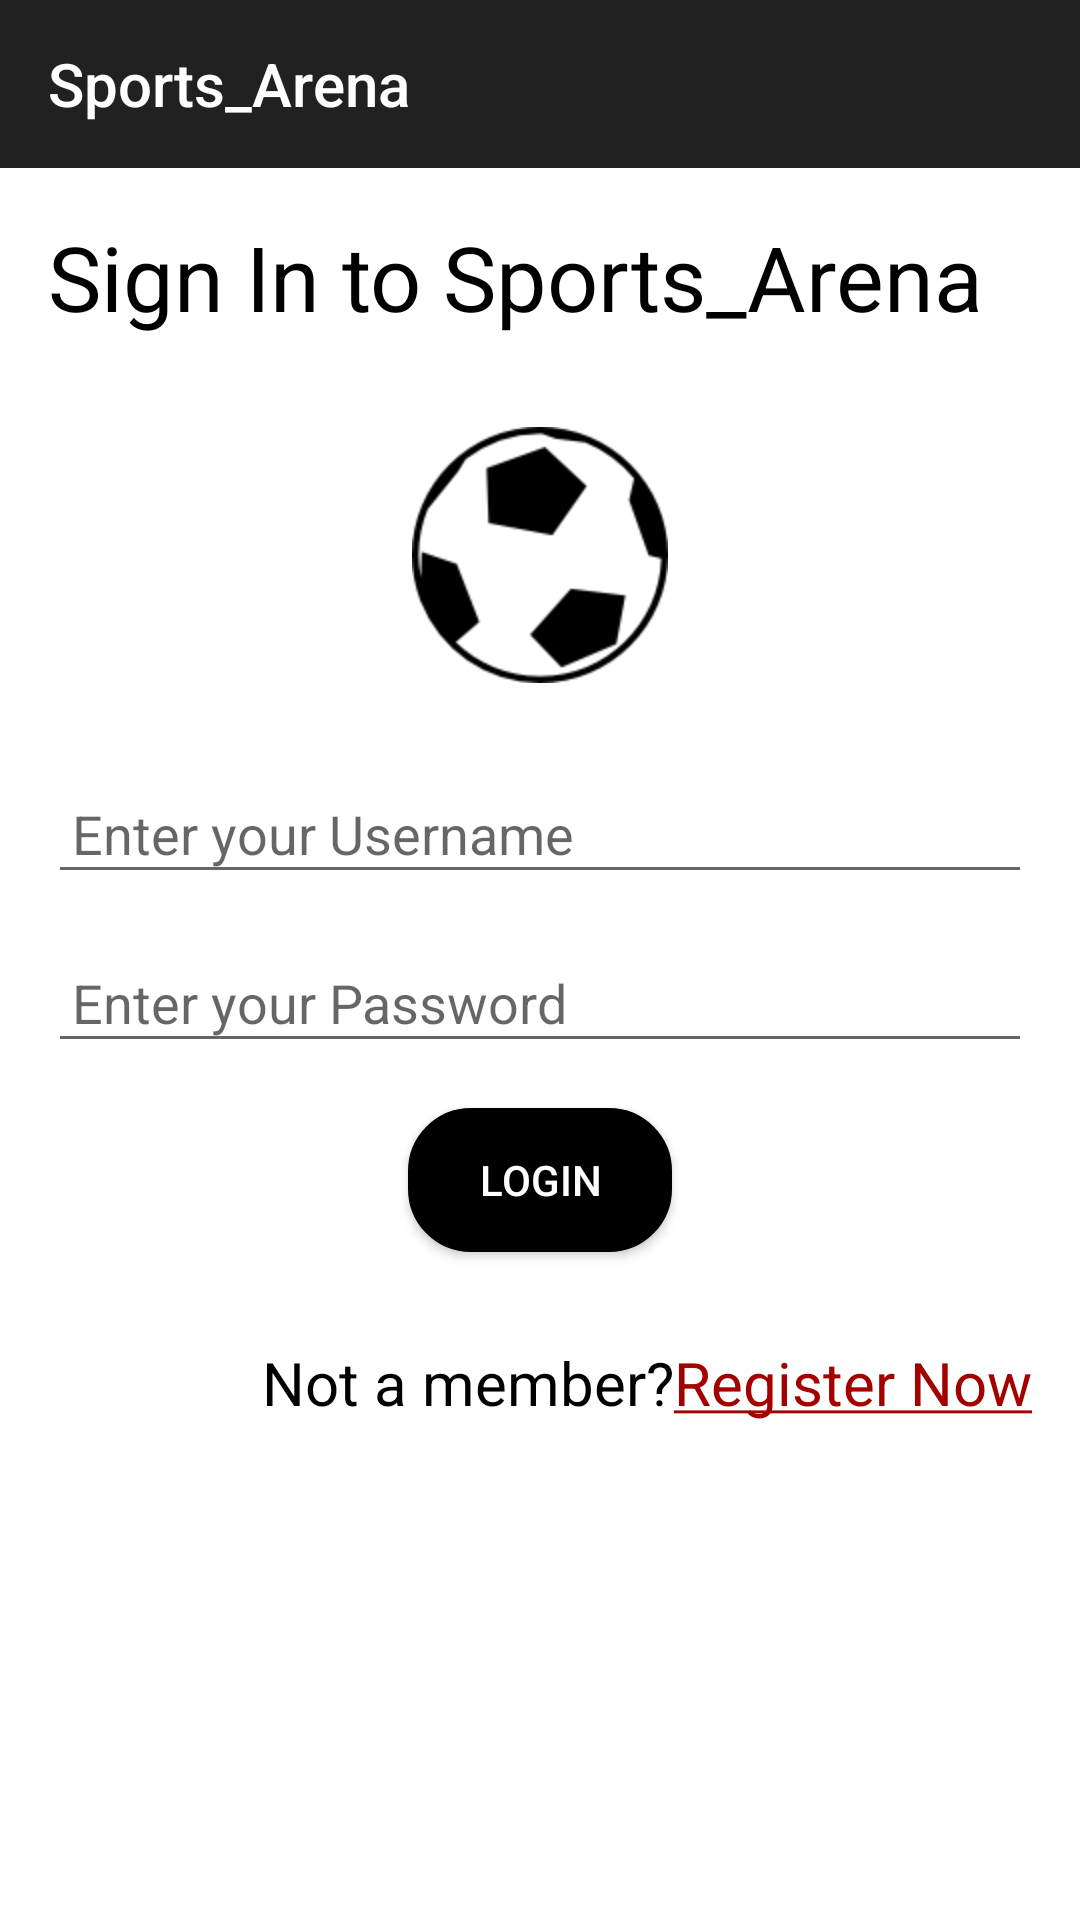

Locate icon controls on the screen. Image size 1080w x 1920h, boxes as [x1,y1,x2,y2].
football: [412,427,668,683]
